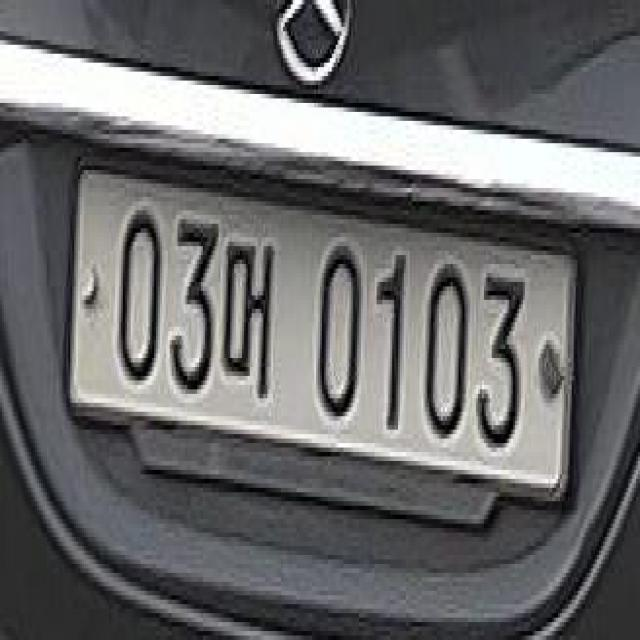illegal_plate: (70, 145, 580, 539)
